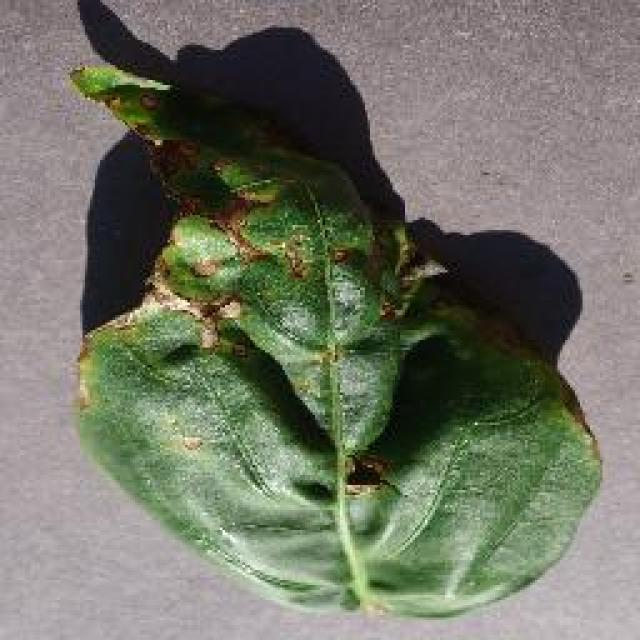Chilli_Bacterial_Spot: (65, 55, 605, 620), (65, 55, 425, 467), (155, 212, 250, 352), (162, 212, 240, 282), (338, 450, 392, 498), (277, 230, 315, 282), (232, 175, 282, 210), (130, 82, 168, 118), (210, 292, 245, 322), (313, 340, 345, 370), (188, 252, 222, 280), (282, 250, 310, 280), (327, 242, 355, 268), (177, 430, 205, 455), (135, 88, 160, 112)
